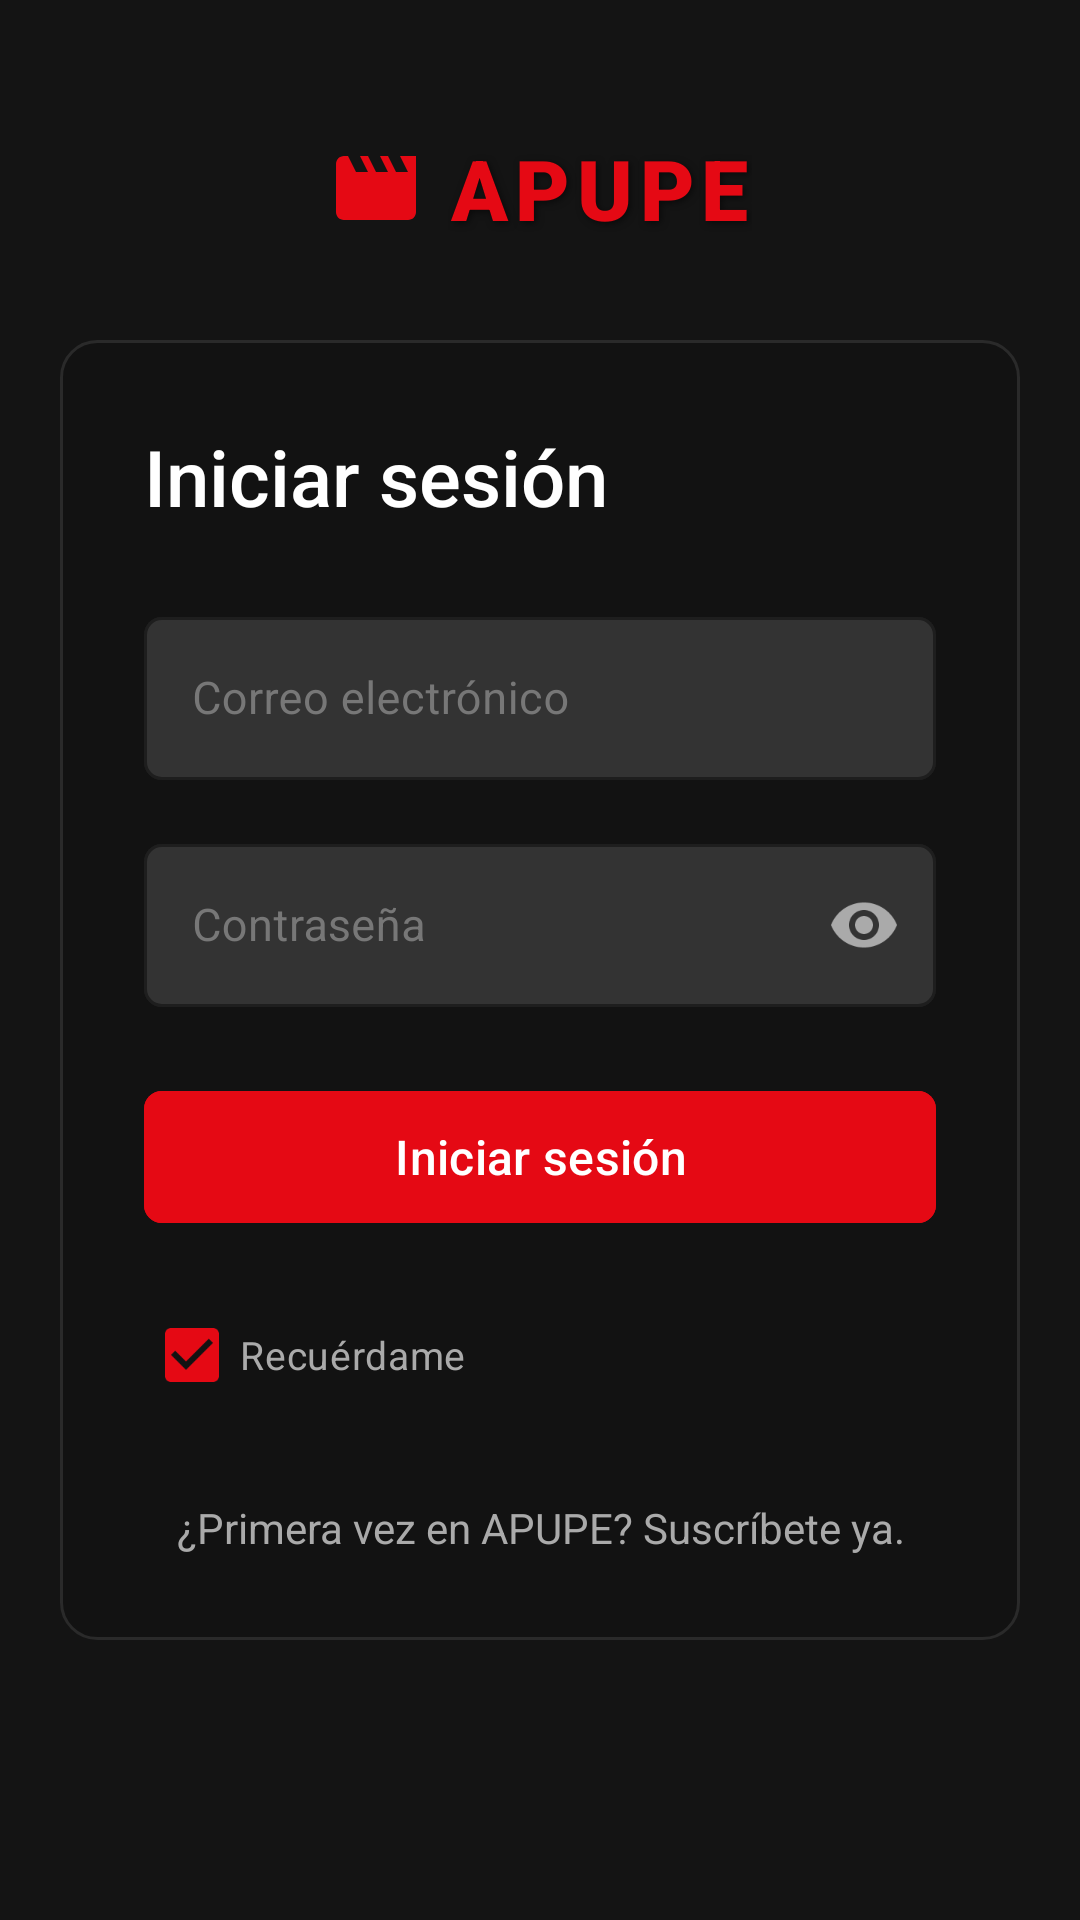

Screen size 1080×1920. Icon name, then its center in pixels as (x=x, y=y):
Icono App: (x=376, y=188)
